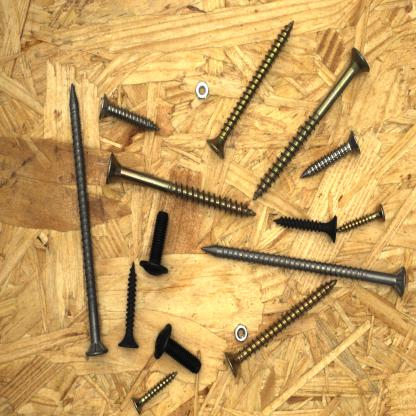screw: (252, 37, 374, 205), (197, 235, 415, 303), (203, 15, 298, 166), (65, 79, 112, 362), (223, 273, 339, 381), (105, 150, 264, 221), (298, 127, 374, 182), (96, 81, 162, 140), (271, 202, 343, 248), (149, 317, 204, 377), (137, 207, 176, 278), (116, 256, 144, 352), (333, 198, 393, 239), (132, 366, 180, 413)
